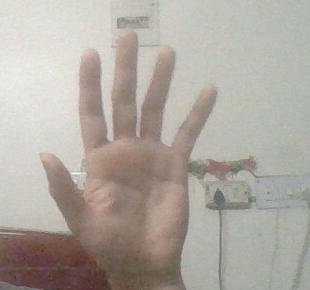move: (34, 36, 158, 290)
